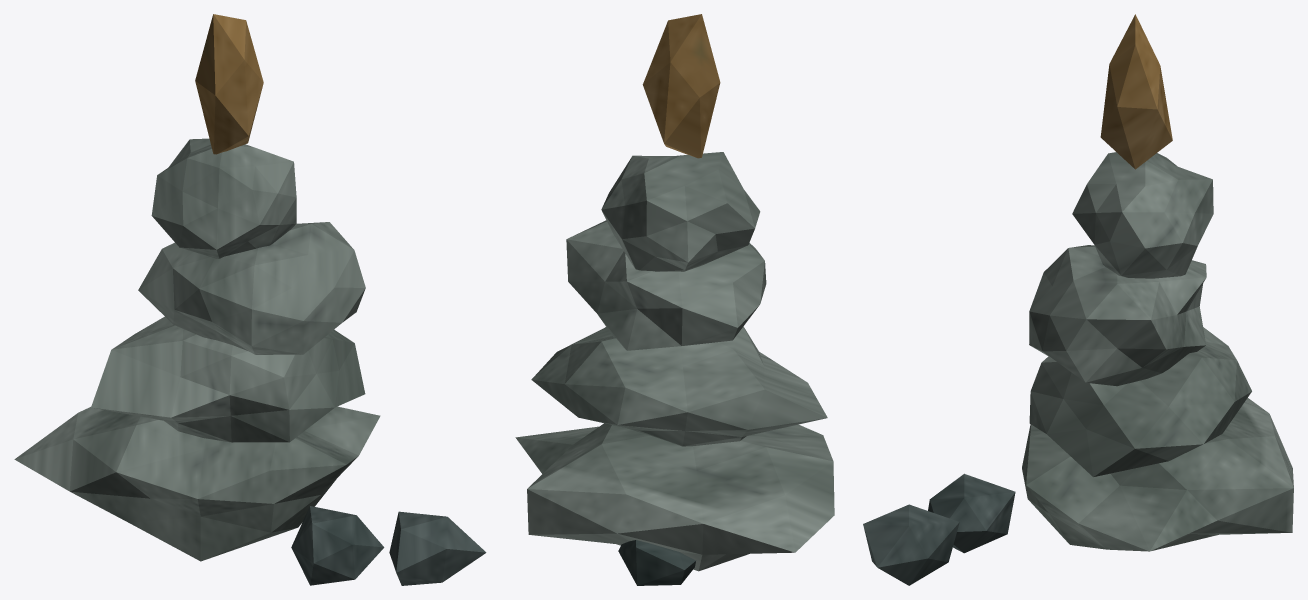
The model's file is 0603_cairn_03.glb.
3 renders of one model, left to right at view 1: azimuth 30°, elevation 25°; view 2: azimuth 150°, elevation 25°; view 3: azimuth 270°, elevation 25°, orthographic. The views are drawn at different scales.
Visible parts, largest first — view 1: stone, stone_dark, brass; view 2: stone, brass, stone_dark; view 3: stone, stone_dark, brass.
Boxes of the visible parts, x1=… form: stone: x1=14, y1=138, x2=380, y2=561; stone_dark: x1=291, y1=506, x2=486, y2=585; brass: x1=195, y1=14, x2=263, y2=154; stone: x1=515, y1=152, x2=834, y2=571; brass: x1=642, y1=14, x2=720, y2=158; stone_dark: x1=618, y1=540, x2=695, y2=585; stone: x1=1022, y1=152, x2=1293, y2=551; stone_dark: x1=863, y1=473, x2=1015, y2=585; brass: x1=1100, y1=14, x2=1172, y2=169.
Bounding box in the file's own units: 1.2 × 1.85 × 1.4.
Materials: 3 (3 with a texture image).
